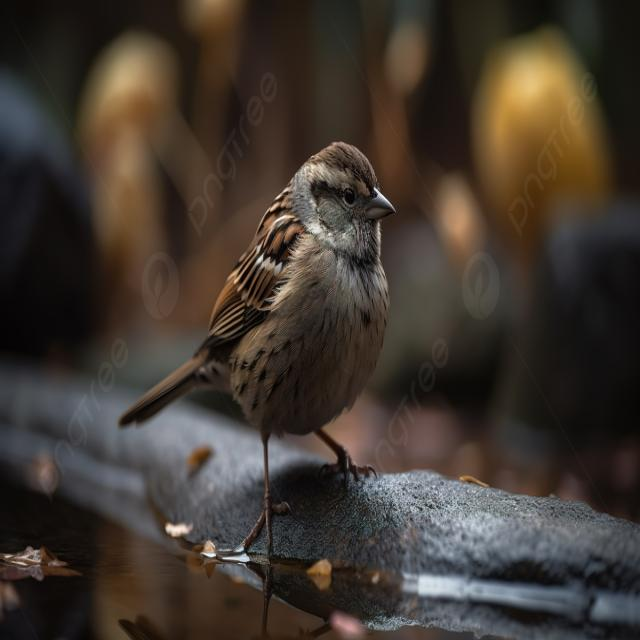bird: (110, 132, 402, 543)
